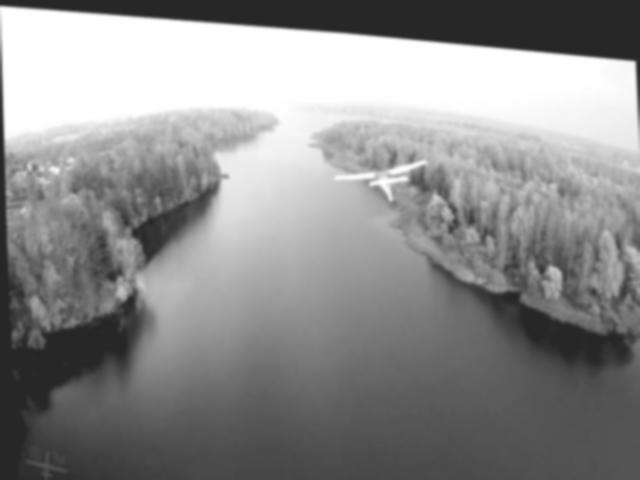hedef: (327, 129, 436, 205)
